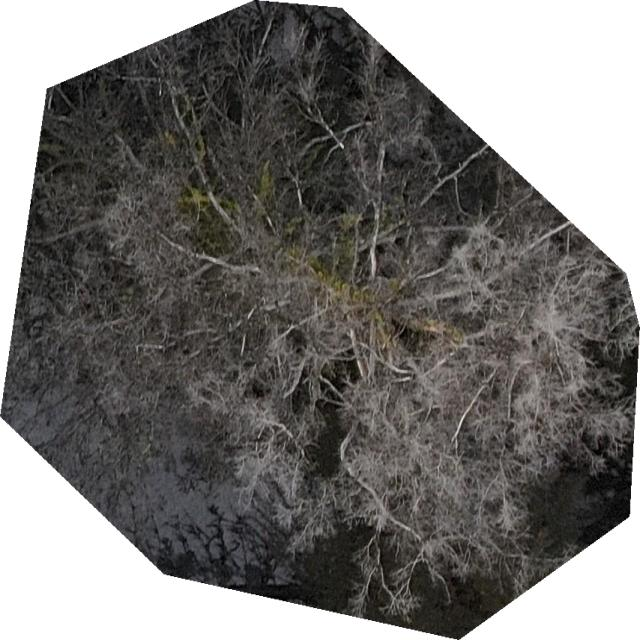trembling aspen: (0, 0, 639, 624), (0, 0, 639, 617)
